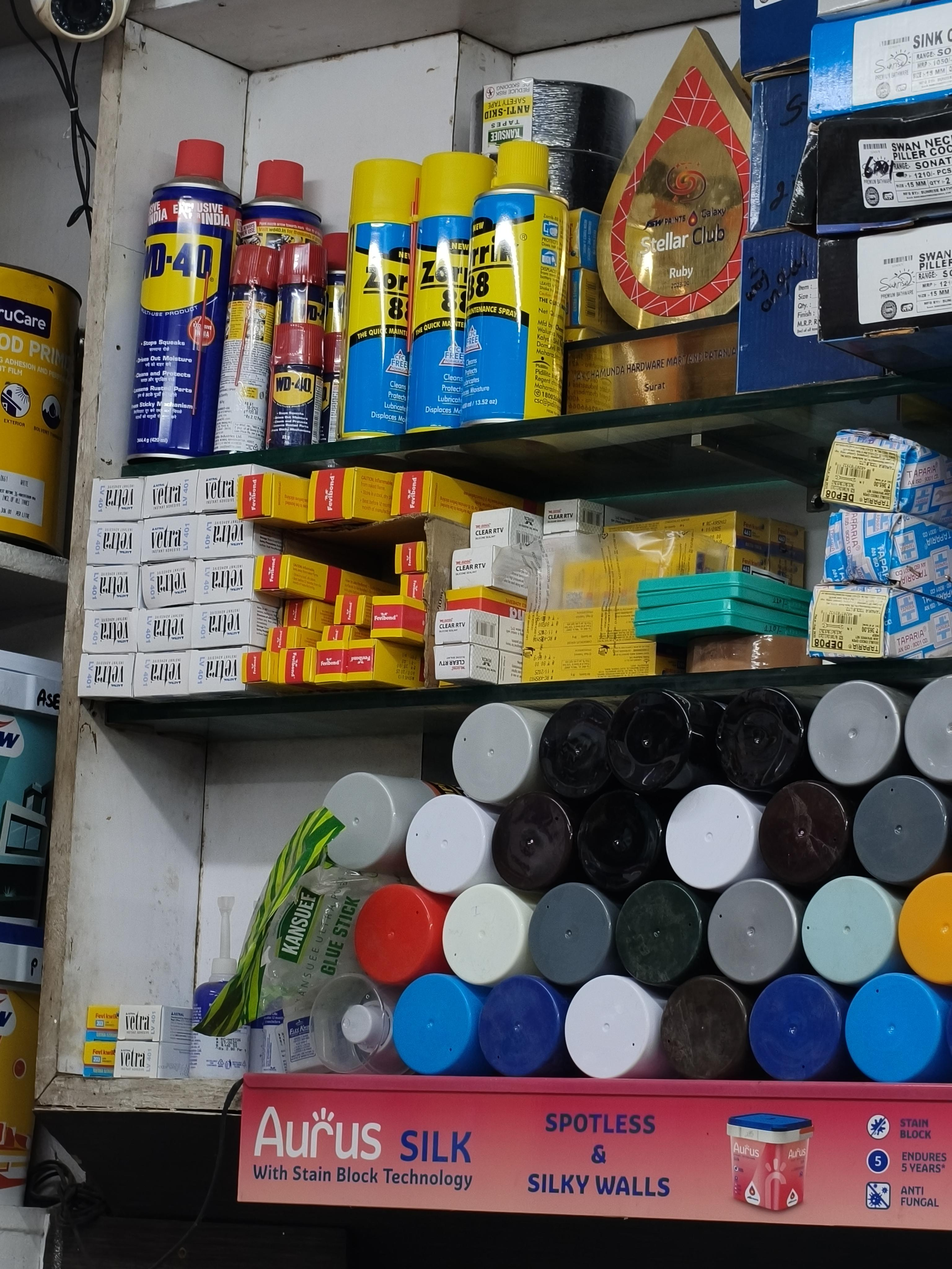Fevibond: (393, 469, 473, 520), (256, 555, 353, 596), (312, 470, 389, 520), (351, 642, 424, 685), (242, 477, 307, 520), (372, 596, 426, 639), (446, 590, 515, 610), (281, 647, 316, 685), (318, 642, 348, 685), (284, 599, 327, 626), (244, 653, 277, 686), (395, 543, 428, 573), (268, 627, 317, 647), (337, 597, 370, 626), (400, 575, 430, 599), (321, 628, 369, 639)
Fevikwik_203: (82, 1033, 114, 1077), (85, 1006, 118, 1032)
M-Seal_RTV: (432, 645, 522, 683), (453, 548, 530, 587), (435, 608, 514, 642), (472, 514, 544, 547), (545, 499, 608, 533)
Other: (461, 143, 571, 424), (406, 156, 498, 434)
VETRA_LV 401: (115, 1040, 191, 1079), (120, 1004, 191, 1043), (194, 608, 266, 646), (141, 562, 195, 609), (199, 513, 250, 557), (84, 609, 136, 652), (140, 608, 193, 650), (196, 562, 254, 600), (85, 567, 140, 607), (89, 522, 140, 565), (143, 475, 195, 517), (91, 477, 141, 520), (82, 654, 132, 697), (136, 654, 189, 694), (142, 521, 199, 558), (192, 650, 241, 691), (198, 468, 240, 513)
WD-40: (123, 136, 245, 464), (337, 157, 421, 442), (211, 244, 281, 454), (265, 325, 325, 449), (240, 161, 323, 249), (276, 239, 327, 327), (319, 331, 345, 441), (323, 223, 348, 335)
poster: (242, 1072, 952, 1229)
